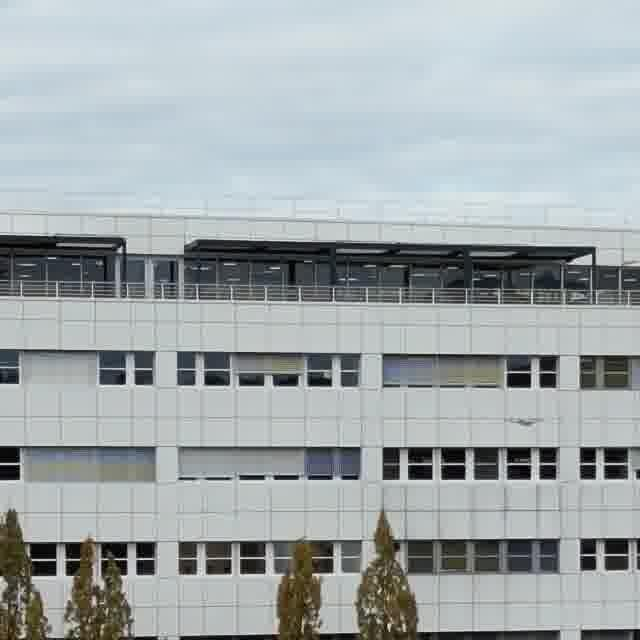Drohne: (507, 418, 541, 426)
